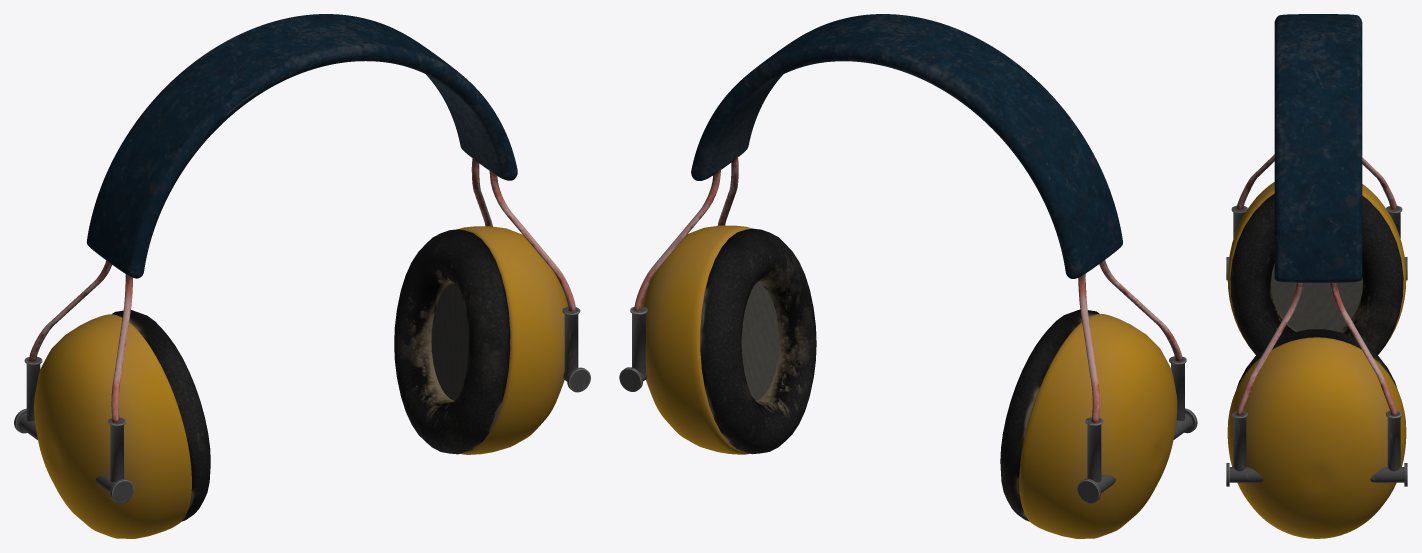
The model's file is safety_headphones.glb.
3 views of the same model, side by side, from view 1: azimuth 30°, elevation 25°; view 2: azimuth 150°, elevation 25°; view 3: azimuth 270°, elevation 25° (orthographic). The views are drawn at different scales.
Visible parts, largest first — view 1: headphones; view 2: headphones; view 3: headphones.
Boxes of the visible parts, x1=… form: headphones: x1=14, y1=14, x2=590, y2=538; headphones: x1=619, y1=14, x2=1197, y2=538; headphones: x1=1226, y1=14, x2=1407, y2=538.
Bounding box in the file's own units: 2534 × 2188 × 856.
Materials: 1 (1 with a texture image).
